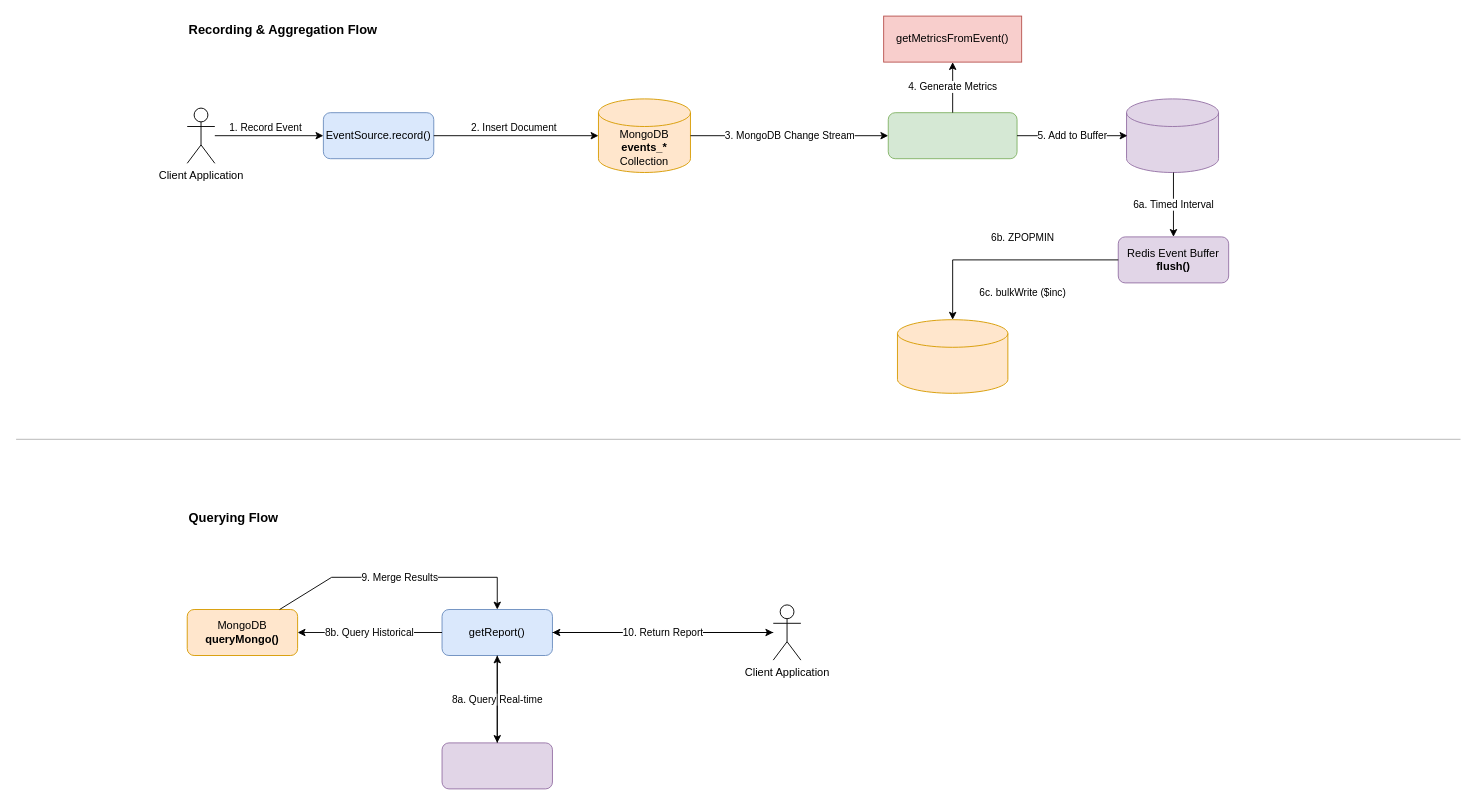
This 1478x805 diagram has some shape labels left out. Each missing label, with the centre of its shape:
Aggregation Service onEventInserted(): (952,135)
MongoDB aggr_* Collection: (952,356)
Redis Event Buffer query(): (496,765)
Redis Event Buffer ZADD: (1172,135)
